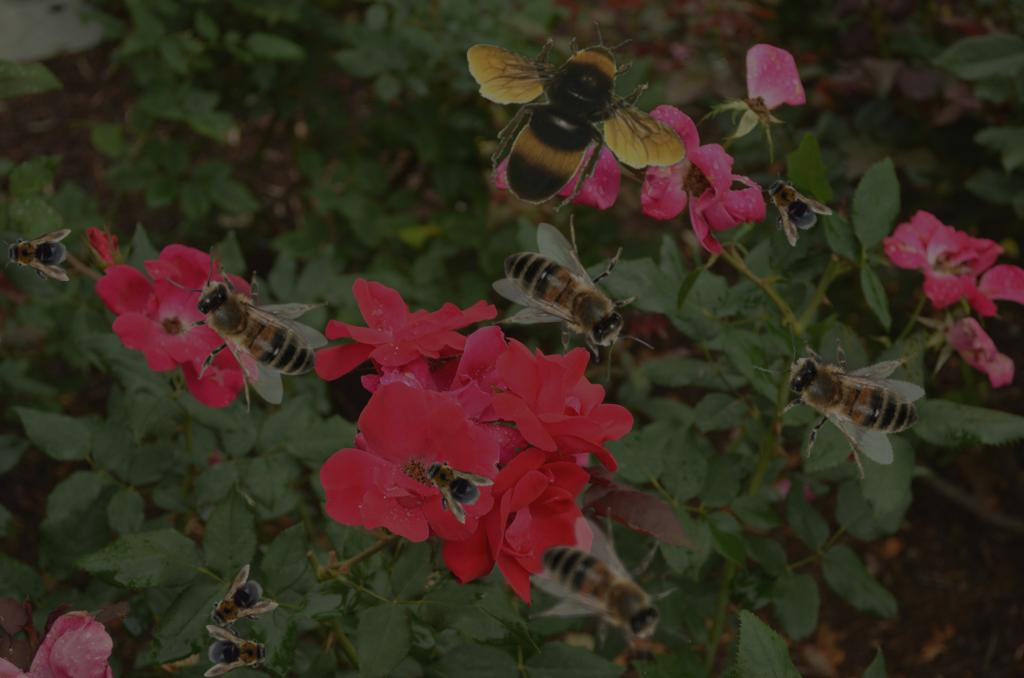Bee: (467, 21, 687, 212), (745, 298, 942, 498), (529, 507, 691, 674), (492, 214, 654, 381), (166, 246, 328, 413), (748, 163, 834, 249), (195, 563, 281, 647), (409, 444, 495, 526), (204, 625, 272, 677), (3, 229, 71, 281)
